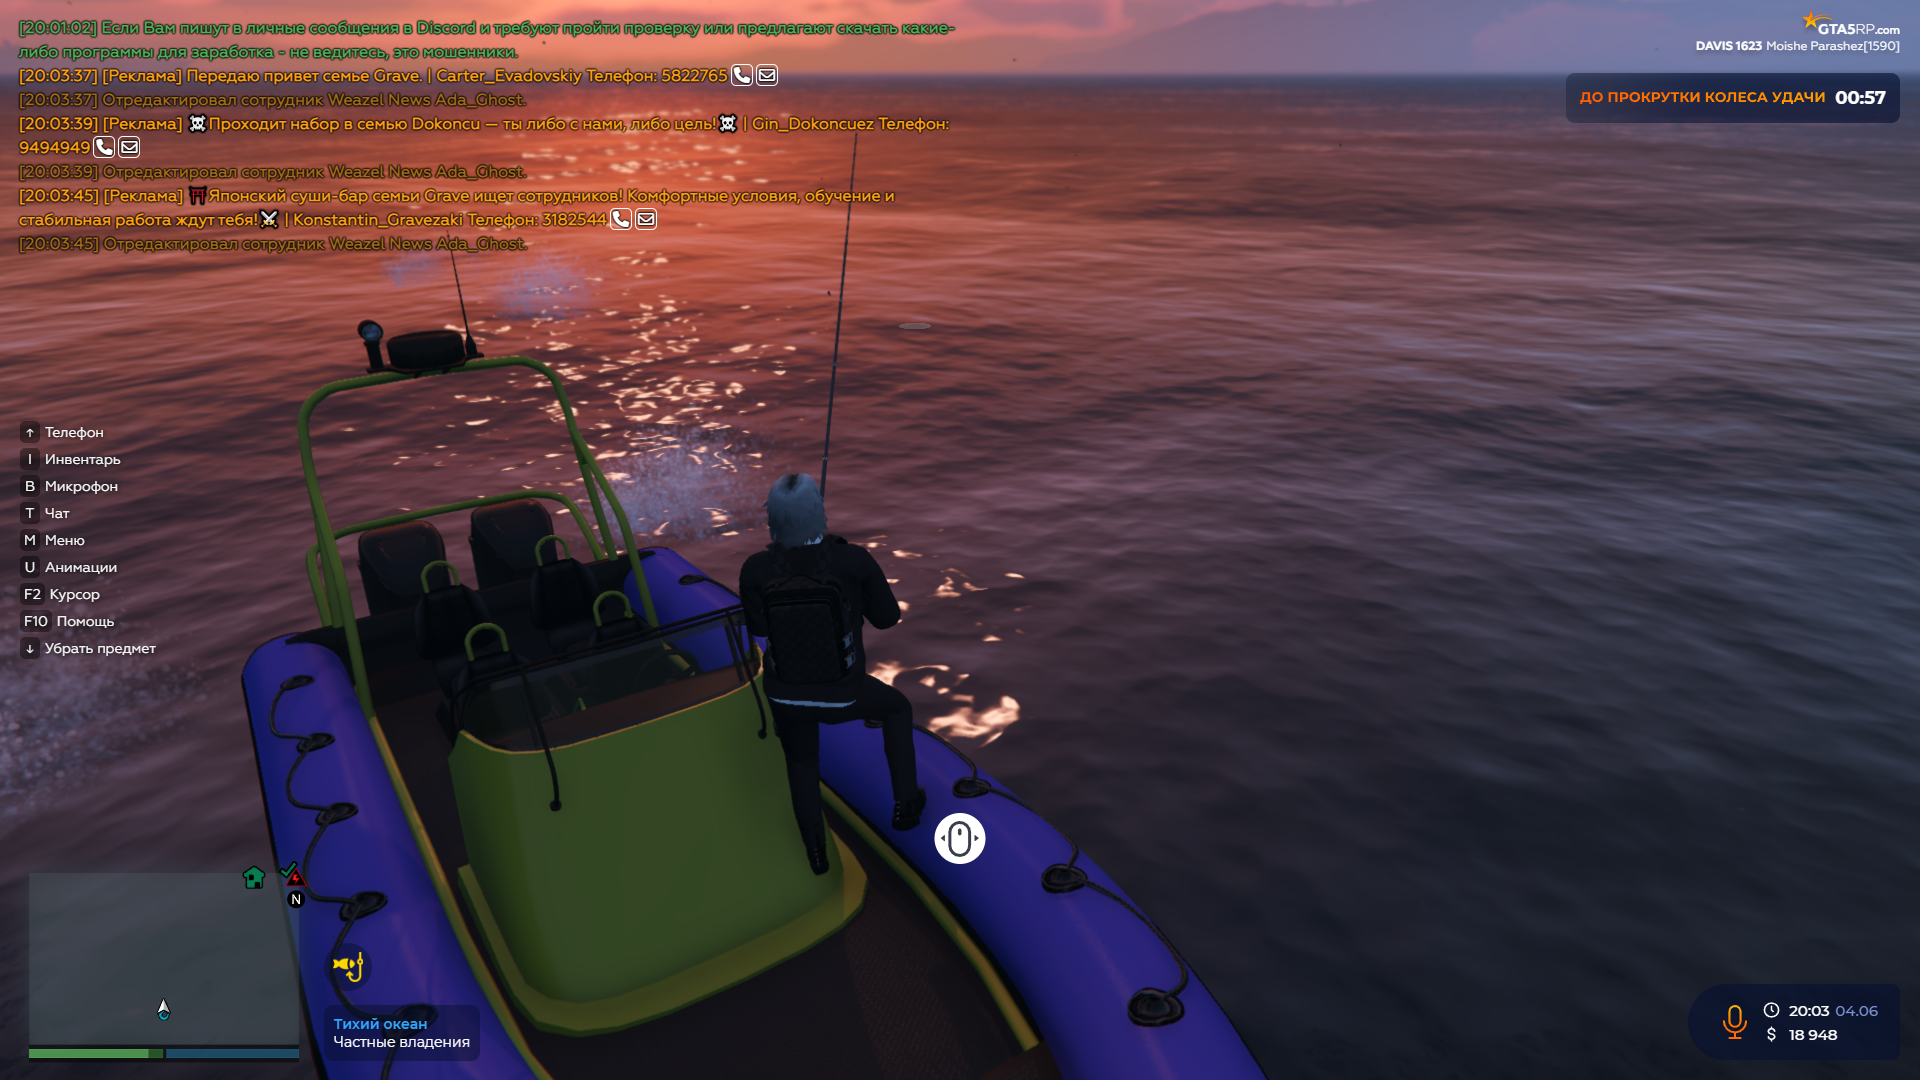circle: (895, 319, 934, 332)
